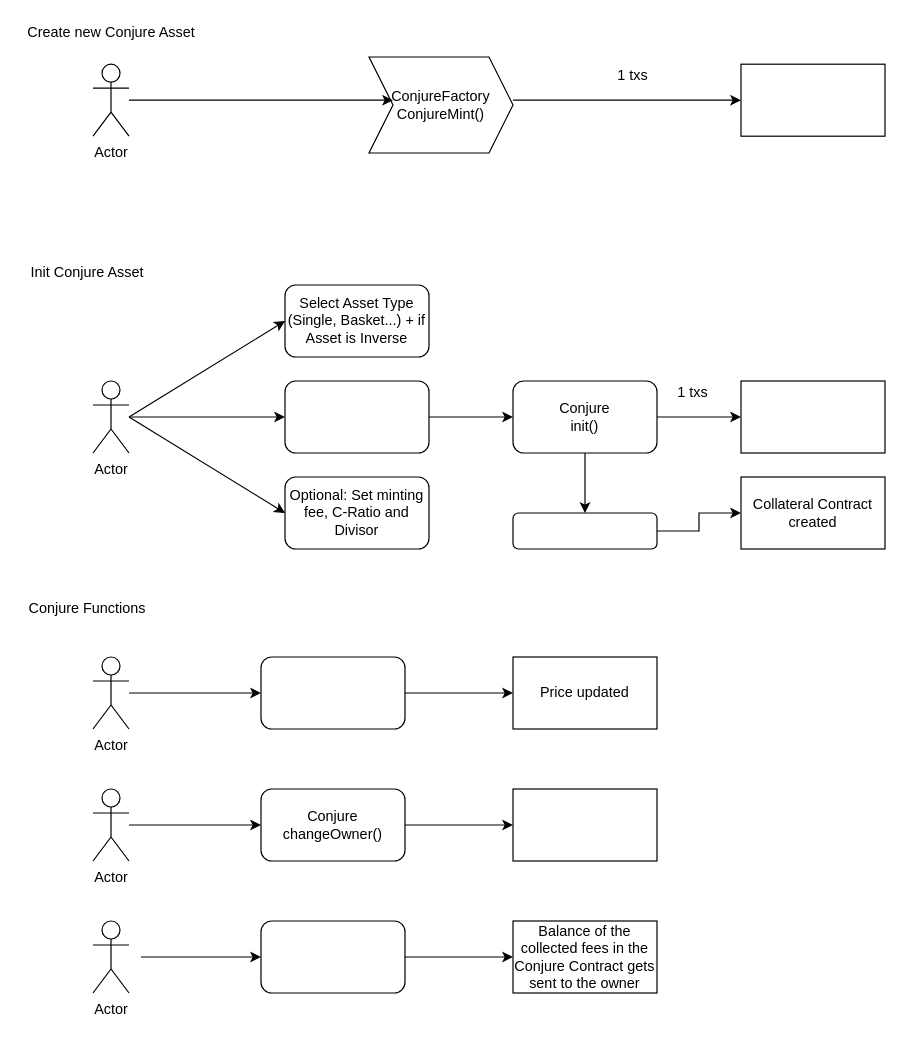
This 906x1038 diagram has some shape labels left out. Each missing label, with the centre of its shape:
"CollateralFactory CollateralMint()" goes at (584,530).
"Conjure Asset initialized" goes at (812,416).
"Conjure collectFees()" goes at (332,956).
"Conjure getPrice()" goes at (332,692).
"New Conjure Contract created" goes at (812,99).
"Owner changed" goes at (584,824).
"Select 1..n Oracle Price Feeds" goes at (356,416).
